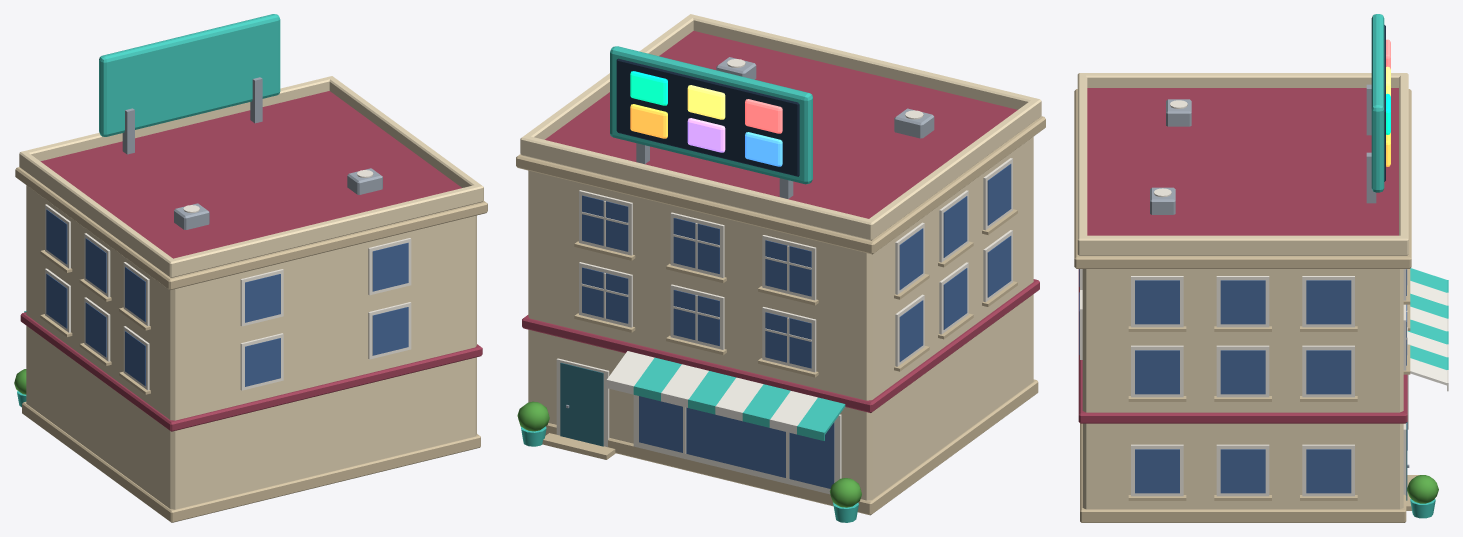
Rendered from bld_d7_a.glb.
3 views of the same model, side by side, from view 1: azimuth 30°, elevation 25°; view 2: azimuth 150°, elevation 25°; view 3: azimuth 270°, elevation 25° (orthographic). The views are drawn at different scales.
Visible parts, largest first — view 1: bld_d7_a; view 2: bld_d7_a; view 3: bld_d7_a.
Boxes of the visible parts, x1,y1,x2,y2 form: bld_d7_a: (14, 14, 487, 522); bld_d7_a: (516, 14, 1045, 522); bld_d7_a: (1074, 14, 1448, 522).
Bounding box in the file's own units: 12.5 × 13.18 × 11.64.
